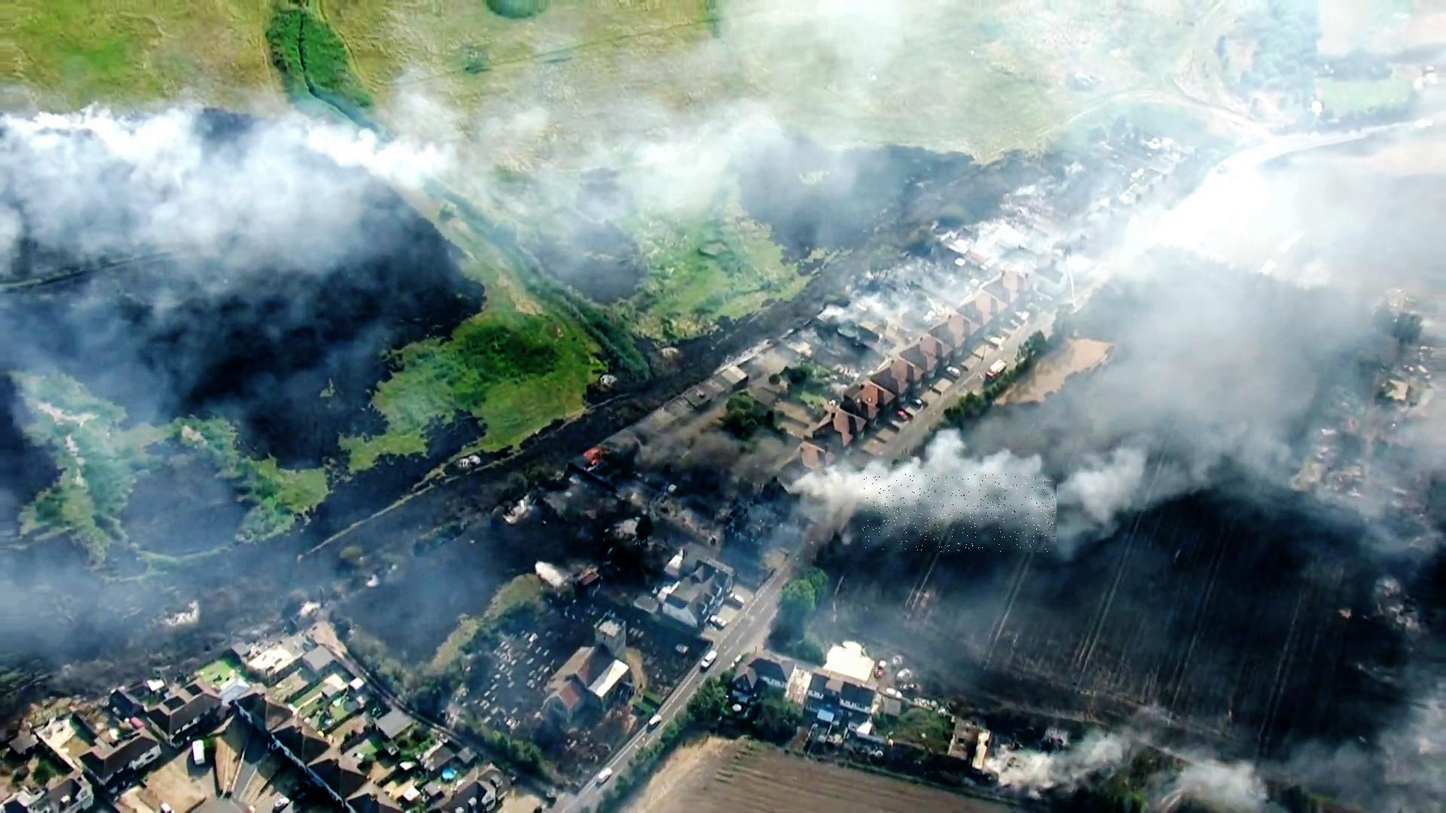smoke: (862, 475, 1057, 553)
